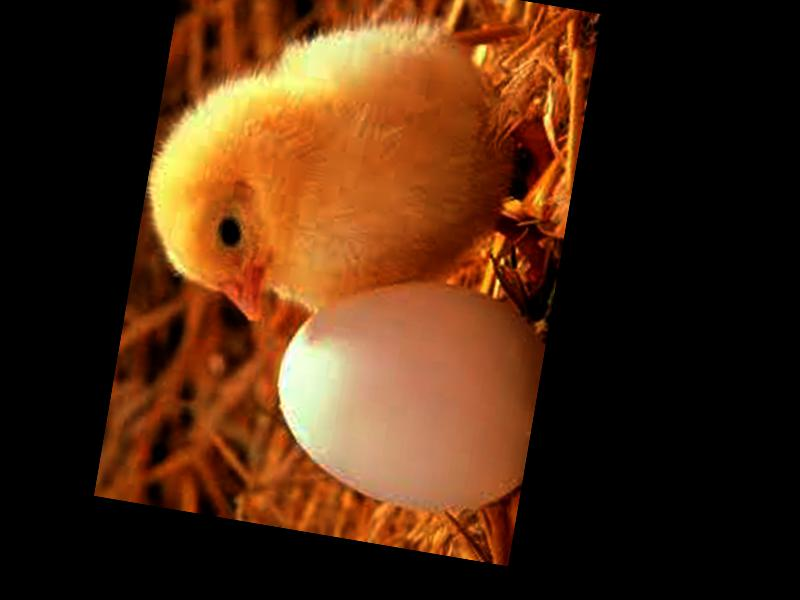Eggs: (259, 258, 553, 525)
